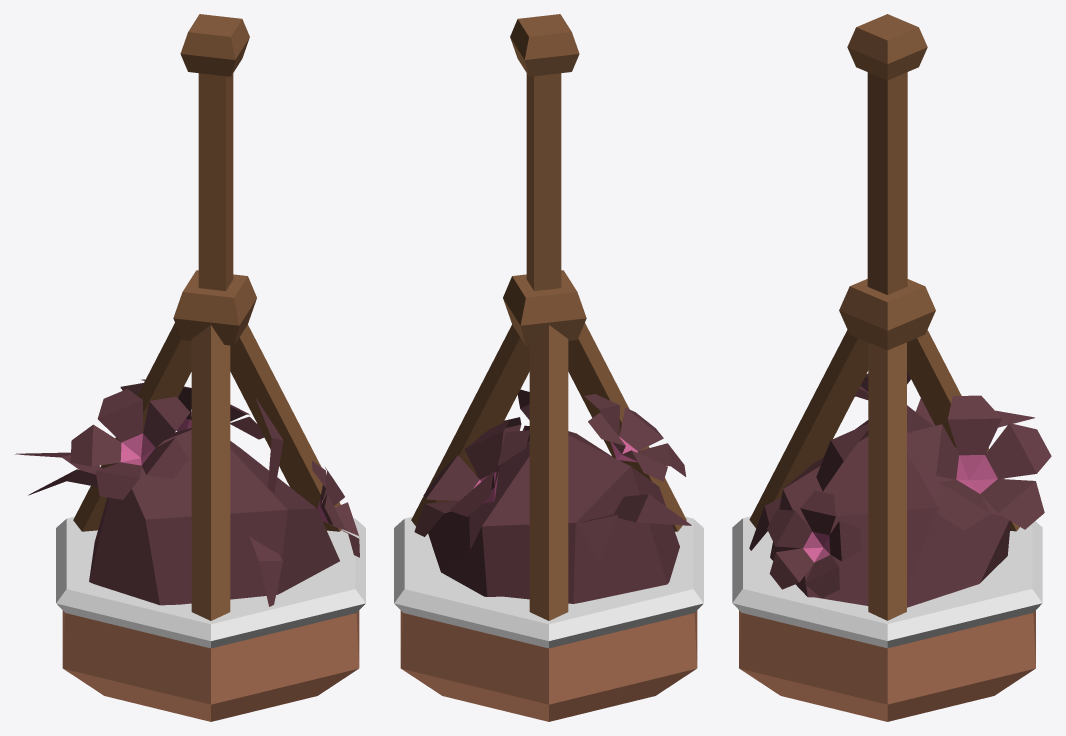
Rendered from SM_Flowerpot_Hanging_Small_Empire.fbx.
3 views of the same model, side by side, from view 1: azimuth 30°, elevation 25°; view 2: azimuth 150°, elevation 25°; view 3: azimuth 270°, elevation 25° (orthographic).
Visible parts, largest first — view 1: SM_Flowerpot_Hanging_Small_Empire; view 2: SM_Flowerpot_Hanging_Small_Empire; view 3: SM_Flowerpot_Hanging_Small_Empire.
Part boxes in pixels (x1,y1,x2,y2): SM_Flowerpot_Hanging_Small_Empire: (15, 14, 365, 721); SM_Flowerpot_Hanging_Small_Empire: (394, 14, 703, 721); SM_Flowerpot_Hanging_Small_Empire: (732, 14, 1051, 721).
Size of the model in its own units: 0.4601 by 0.9142 by 0.3987.
